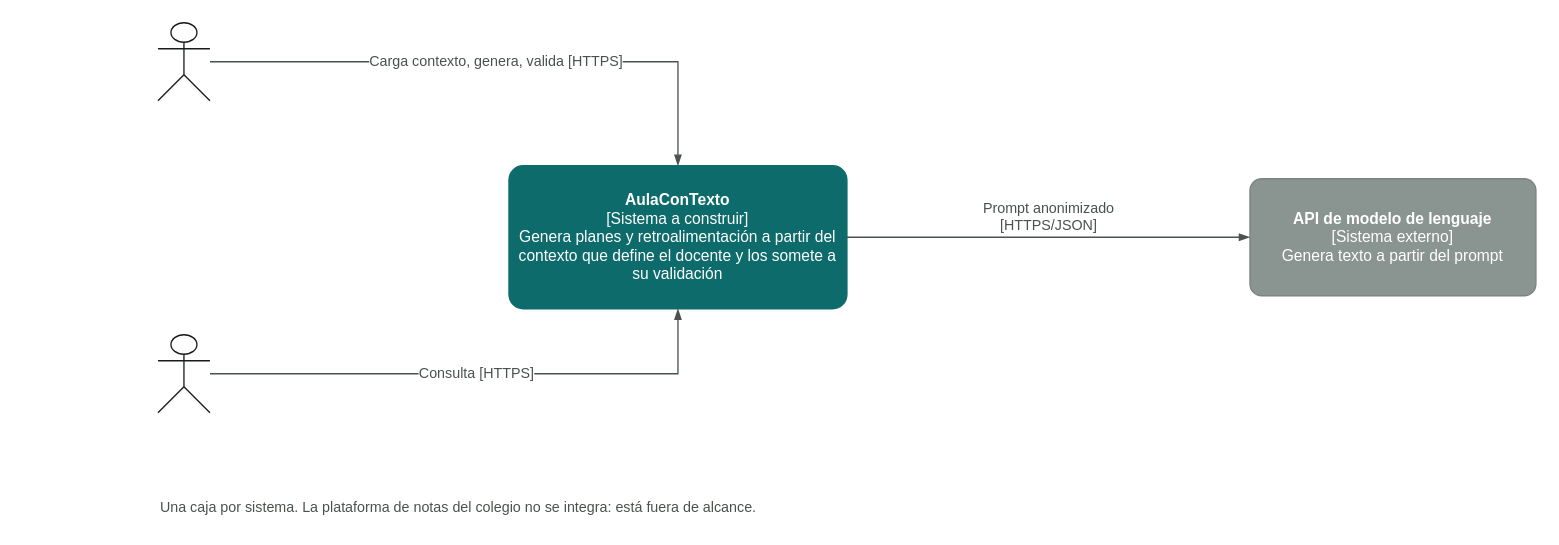
Some shapes in this 1559 by 545 pixel diagram are drawn without their labels. Here are the shapes that lost their labels. From the top down, the box of each, then its label:
(157, 21, 210, 101): Docente Define el contexto de su curso, genera y valida
(157, 333, 210, 413): Coordinador académico Consulta planes aprobados
